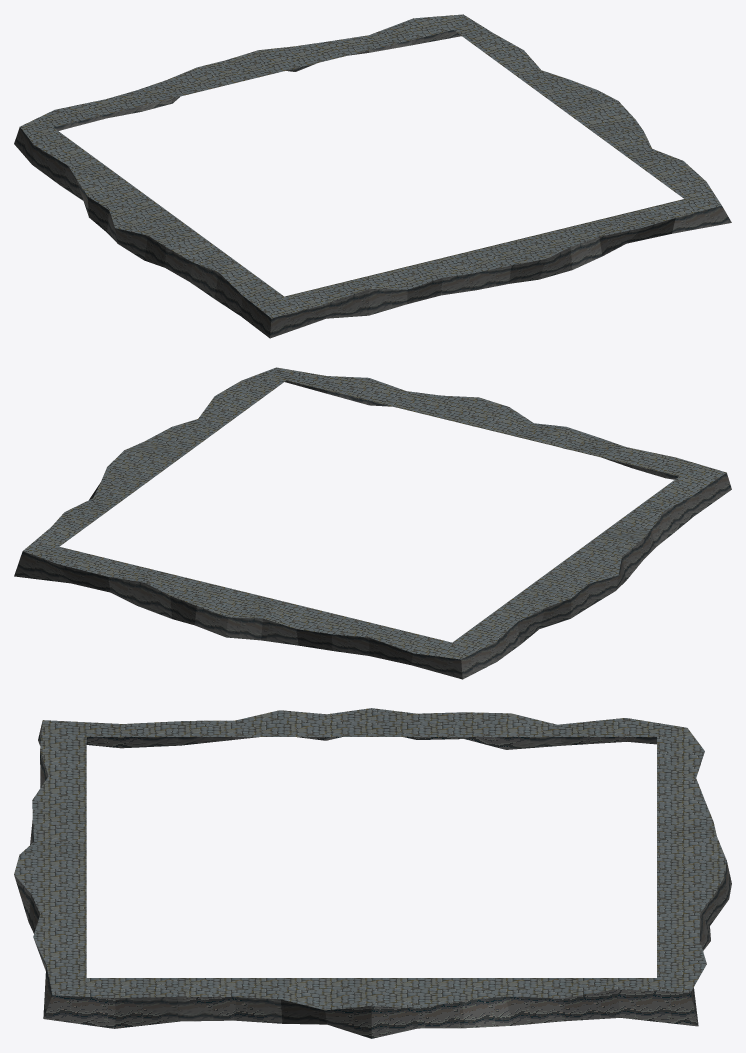
The model's file is entorno_16.glb.
3 views of the same model, one above another, from view 1: azimuth 30°, elevation 25°; view 2: azimuth 150°, elevation 25°; view 3: azimuth 270°, elevation 25° (orthographic). The views are drawn at different scales.
Parts seen in each view (by area): view 1: pedreira_entorno_16; view 2: pedreira_entorno_16; view 3: pedreira_entorno_16.
Part boxes in pixels (x1=…): pedreira_entorno_16: x1=14, y1=14, x2=731, y2=338; pedreira_entorno_16: x1=14, y1=367, x2=731, y2=679; pedreira_entorno_16: x1=14, y1=708, x2=731, y2=1038.
Bounding box in the file's own units: 20.59 × 1.07 × 20.39.
Materials: 2 (2 with a texture image).
